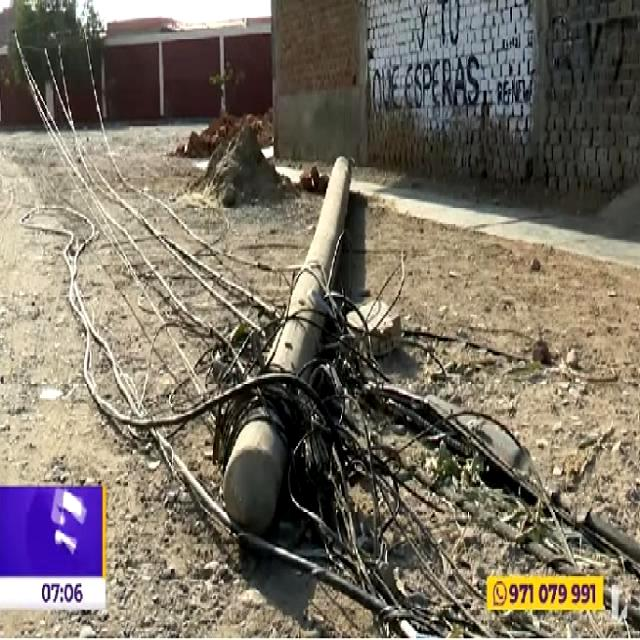Broken Pole: (208, 148, 355, 556)
